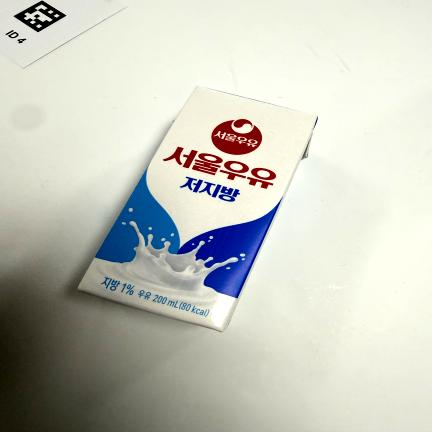milk_blue: (79, 88, 317, 331)
